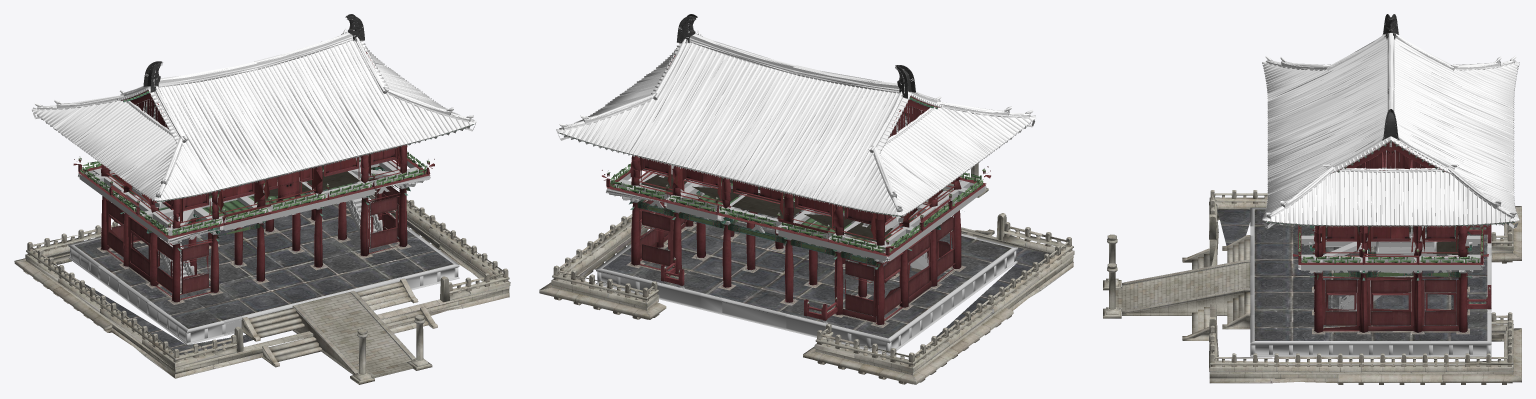
The model's file is gate_w.glb.
3 renders of one model, left to right at view 1: azimuth 30°, elevation 25°; view 2: azimuth 150°, elevation 25°; view 3: azimuth 270°, elevation 25°, orthographic. The views are drawn at different scales.
Parts seen in each view (by area): view 1: SM_CWEB_004_GIWA, SM_CWEB_004_JEONDOL_M002, SM_CWEB_004_GIWA_SM_CWEB_004_GIWA_0.001, SM_CWEB_004_WOLDAE_M003, SM_CWEB_004_GIDUnG_M001, SM_CWEB_004_GWITEUL, SM_CWEB_004_GIDAN_M005, SM_CWEB_004_1F_WALL_M001, SM_CWEB_004_2F_NANGAN, SM_CWEB_004_GIDAN_M004, SM_CWEB_004_WOLDAE_M002, SM_CWEB_004_GIDAN_M003 (+26 smaller); view 2: SM_CWEB_004_GIWA, SM_CWEB_004_GIWA_SM_CWEB_004_GIWA_0.001, SM_CWEB_004_JEONDOL_M002, SM_CWEB_004_GIDAN_M005, SM_CWEB_004_GIDUnG_M001, SM_CWEB_004_GWITEUL, SM_CWEB_004_1F_WALL_M001, SM_CWEB_004_2F_NANGAN, SM_CWEB_004_GIDAN_M004, SM_CWEB_004_CHEOMASEOG_M002, SM_CWEB_004_NANGANSEOG_M002, SM_CWEB_004_2F_MARUBADAK (+22 smaller); view 3: SM_CWEB_004_GIWA, SM_CWEB_004_JEONDOL_M002, SM_CWEB_004_GIWA_SM_CWEB_004_GIWA_0.001, SM_CWEB_004_WOLDAE_M003, SM_CWEB_004_GIDAN_M005, SM_CWEB_004_1F_WALL_M001, SM_CWEB_004_GIDAN_M004, SM_CWEB_004_GWITEUL, SM_CWEB_004_CHEOMASEOG_M001, SM_CWEB_004_1F_WALL_M002, SM_CWEB_004_GIDUnG_M001, SM_CWEB_004_2F_NANGAN (+26 smaller).
Boxes of the visible parts, x1,y1,x2,y2 form: SM_CWEB_004_GIWA: [32, 27, 476, 201]; SM_CWEB_004_JEONDOL_M002: [74, 190, 453, 328]; SM_CWEB_004_GIWA_SM_CWEB_004_GIWA_0.001: [32, 32, 476, 201]; SM_CWEB_004_WOLDAE_M003: [292, 291, 415, 377]; SM_CWEB_004_GIDUnG_M001: [101, 172, 407, 302]; SM_CWEB_004_GWITEUL: [78, 160, 430, 243]; SM_CWEB_004_GIDAN_M005: [68, 200, 459, 344]; SM_CWEB_004_1F_WALL_M001: [106, 183, 400, 299]; SM_CWEB_004_2F_NANGAN: [73, 152, 434, 238]; SM_CWEB_004_GIDAN_M004: [25, 189, 510, 367]; SM_CWEB_004_WOLDAE_M002: [241, 308, 321, 367]; SM_CWEB_004_GIDAN_M003: [26, 193, 509, 369]; SM_CWEB_004_GIWA: [556, 29, 1036, 215]; SM_CWEB_004_GIWA_SM_CWEB_004_GIWA_0.001: [562, 37, 1035, 216]; SM_CWEB_004_JEONDOL_M002: [602, 209, 1011, 338]; SM_CWEB_004_GIDAN_M005: [596, 227, 1017, 355]; SM_CWEB_004_GIDUnG_M001: [631, 192, 961, 324]; SM_CWEB_004_GWITEUL: [606, 169, 986, 261]; SM_CWEB_004_1F_WALL_M001: [639, 196, 955, 322]; SM_CWEB_004_2F_NANGAN: [602, 163, 990, 256]; SM_CWEB_004_GIDAN_M004: [551, 206, 1074, 372]; SM_CWEB_004_CHEOMASEOG_M002: [803, 308, 1013, 384]; SM_CWEB_004_NANGANSEOG_M002: [552, 218, 1073, 365]; SM_CWEB_004_2F_MARUBADAK: [640, 173, 892, 241]; SM_CWEB_004_GIWA: [1262, 30, 1519, 226]; SM_CWEB_004_JEONDOL_M002: [1254, 209, 1487, 340]; SM_CWEB_004_GIWA_SM_CWEB_004_GIWA_0.001: [1262, 40, 1519, 226]; SM_CWEB_004_WOLDAE_M003: [1115, 260, 1250, 315]; SM_CWEB_004_GIDAN_M005: [1250, 207, 1491, 356]; SM_CWEB_004_1F_WALL_M001: [1322, 276, 1459, 331]; SM_CWEB_004_GIDAN_M004: [1209, 201, 1513, 371]; SM_CWEB_004_GWITEUL: [1297, 226, 1484, 270]; SM_CWEB_004_CHEOMASEOG_M001: [1338, 328, 1521, 384]; SM_CWEB_004_1F_WALL_M002: [1367, 277, 1414, 331]; SM_CWEB_004_GIDUnG_M001: [1314, 226, 1467, 332]; SM_CWEB_004_2F_NANGAN: [1293, 225, 1488, 264].
Bounding box in the file's own units: 27.3 × 17.46 × 27.85.
66 materials, 46 textured.
